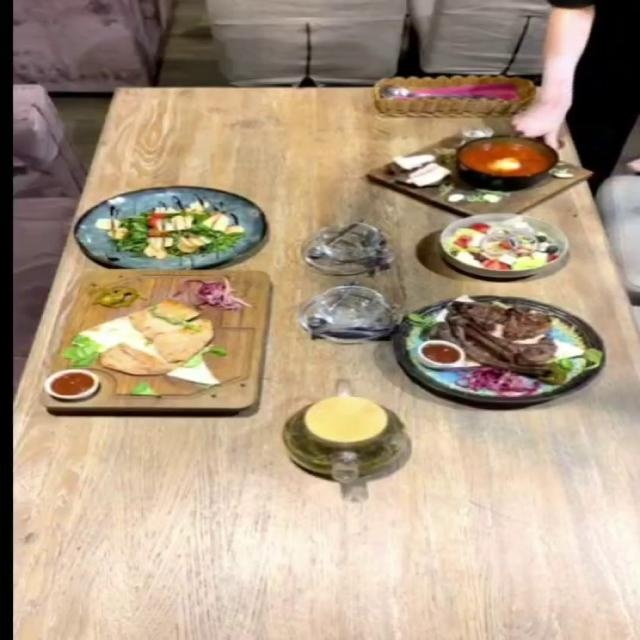meat: (41, 270, 282, 418), (389, 293, 604, 403)
salad: (71, 185, 265, 268), (438, 211, 570, 277)
soup: (366, 127, 596, 217)
tea: (280, 394, 409, 482)
